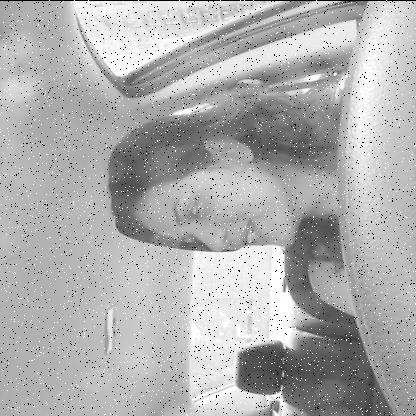no_seatbelt: (90, 72, 416, 262)
